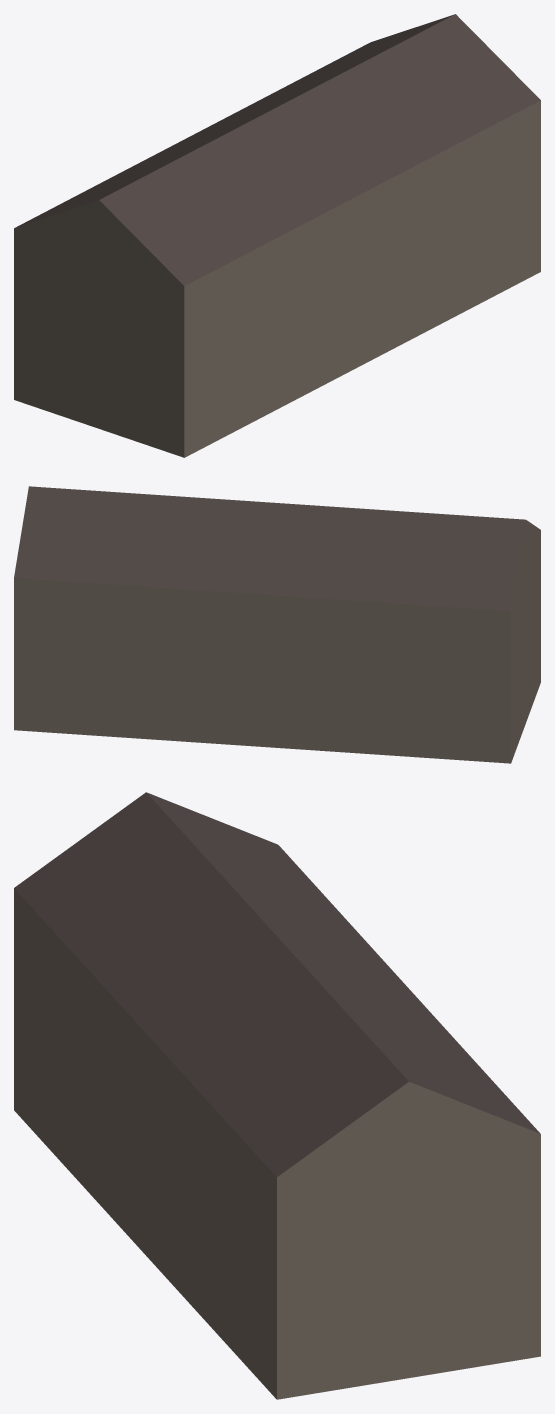
The picture shows the model from 3 angles, top to bottom: view 1: azimuth 30°, elevation 25°; view 2: azimuth 150°, elevation 25°; view 3: azimuth 270°, elevation 25°; orthographic projection. The views are drawn at different scales.
Visible parts, largest first — view 1: HP-w1544735752; view 2: HP-w1544735752; view 3: HP-w1544735752.
Boxes of the visible parts, box(x1,y1,x2,y2) form: HP-w1544735752: box(14, 14, 540, 457); HP-w1544735752: box(14, 486, 540, 763); HP-w1544735752: box(14, 792, 540, 1399).
Size of the model in its own units: 28.89 by 12 by 19.34.
